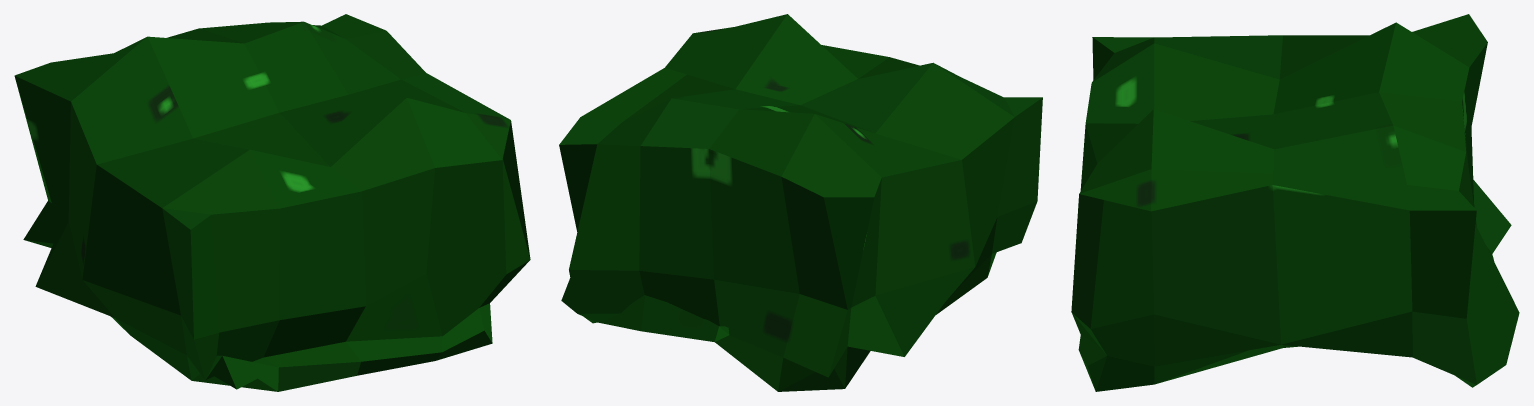
The model's file is bush_short.glb.
The picture shows the model from 3 angles, left to right: view 1: azimuth 30°, elevation 25°; view 2: azimuth 150°, elevation 25°; view 3: azimuth 270°, elevation 25°; orthographic projection. The views are drawn at different scales.
Visible parts, largest first — view 1: bush_short; view 2: bush_short; view 3: bush_short.
Boxes of the visible parts, <box> form: bush_short: <box>14,14,530,391</box>; bush_short: <box>559,14,1042,391</box>; bush_short: <box>1071,14,1519,391</box>.
Size of what is drawn, in the model's own units: 2.39 by 1.52 by 2.23.
Materials: 1 (1 with a texture image).
